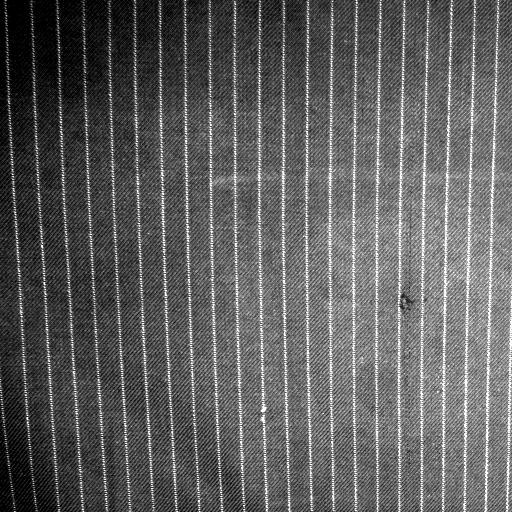fabric_hole: (392, 288, 424, 324)
